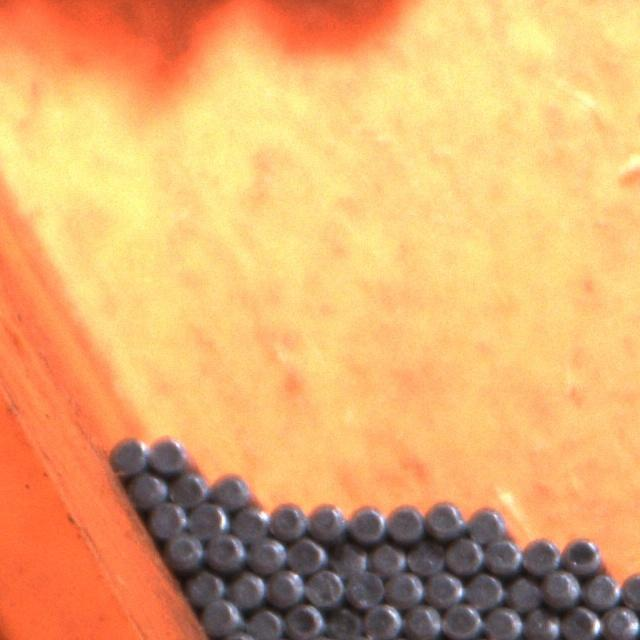tool: (304, 565, 344, 606), (580, 568, 620, 608), (540, 568, 580, 608), (562, 534, 602, 574), (363, 599, 403, 639), (345, 568, 385, 608), (442, 600, 482, 640), (265, 567, 304, 607), (286, 533, 326, 572), (204, 532, 243, 572), (402, 601, 442, 640), (189, 498, 229, 537), (165, 531, 204, 570), (405, 537, 444, 576), (483, 535, 522, 574), (521, 534, 559, 574), (445, 534, 483, 574), (348, 504, 386, 544), (266, 499, 306, 537), (201, 596, 241, 634), (465, 570, 503, 609), (386, 567, 424, 606), (425, 500, 464, 538), (284, 601, 322, 640), (386, 503, 424, 542), (467, 508, 506, 546), (329, 539, 368, 577), (324, 603, 364, 640), (425, 568, 463, 606), (247, 534, 285, 572), (146, 499, 184, 537), (308, 502, 346, 540), (109, 436, 147, 474), (185, 568, 224, 605), (504, 574, 542, 611), (602, 603, 640, 640), (368, 538, 405, 576), (227, 570, 264, 608), (169, 469, 207, 506), (244, 605, 284, 640), (561, 604, 599, 640), (148, 436, 184, 474), (129, 470, 165, 508), (212, 472, 250, 508), (229, 506, 267, 542), (483, 605, 521, 640), (522, 605, 560, 640), (620, 570, 640, 610)
